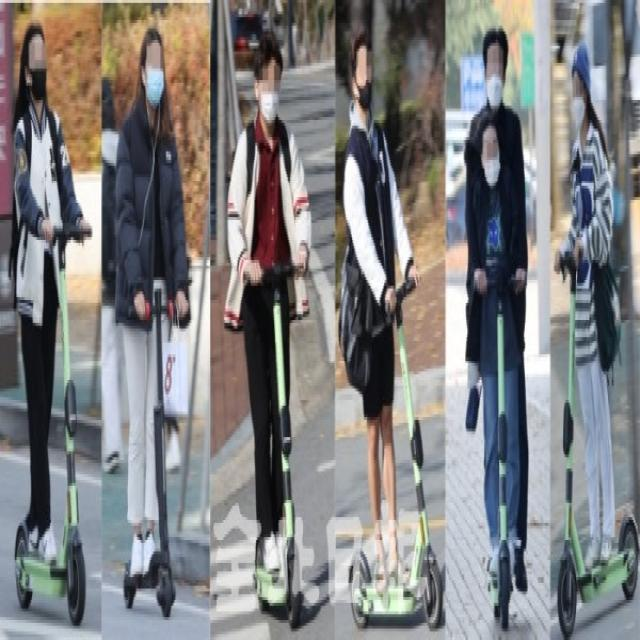non-helmet: (339, 20, 444, 636), (224, 25, 316, 630), (553, 22, 640, 640), (8, 13, 94, 634), (110, 17, 196, 628), (460, 16, 536, 636), (469, 107, 527, 633)
